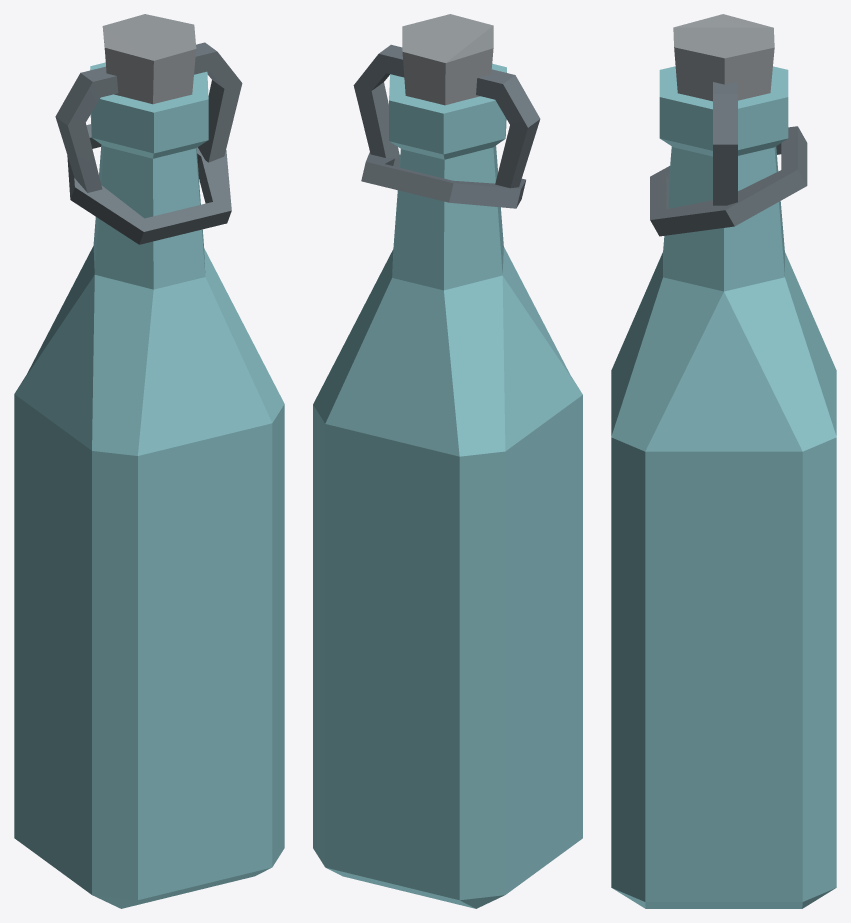
The model's file is SM_Prop_Cafe_Glass_Water_Bottle_01.obj.
The picture shows the model from 3 angles, left to right: view 1: azimuth 30°, elevation 25°; view 2: azimuth 150°, elevation 25°; view 3: azimuth 270°, elevation 25°; orthographic projection.
Parts seen in each view (by area): view 1: SM_Prop_Cafe_Glass_Water_Bottle_01_1, SM_Prop_Cafe_Glass_Water_Bottle_01_0; view 2: SM_Prop_Cafe_Glass_Water_Bottle_01_1, SM_Prop_Cafe_Glass_Water_Bottle_01_0; view 3: SM_Prop_Cafe_Glass_Water_Bottle_01_1, SM_Prop_Cafe_Glass_Water_Bottle_01_0.
Boxes of the visible parts, box(x1,y1,x2,y2) form: SM_Prop_Cafe_Glass_Water_Bottle_01_1: box(14, 62, 284, 908); SM_Prop_Cafe_Glass_Water_Bottle_01_0: box(55, 14, 242, 244); SM_Prop_Cafe_Glass_Water_Bottle_01_1: box(313, 63, 582, 908); SM_Prop_Cafe_Glass_Water_Bottle_01_0: box(353, 14, 540, 208); SM_Prop_Cafe_Glass_Water_Bottle_01_1: box(611, 66, 836, 908); SM_Prop_Cafe_Glass_Water_Bottle_01_0: box(650, 14, 807, 236).
Size of the model in its own units: 0.0898 by 0.3688 by 0.0898.
2 materials, 1 textured.
